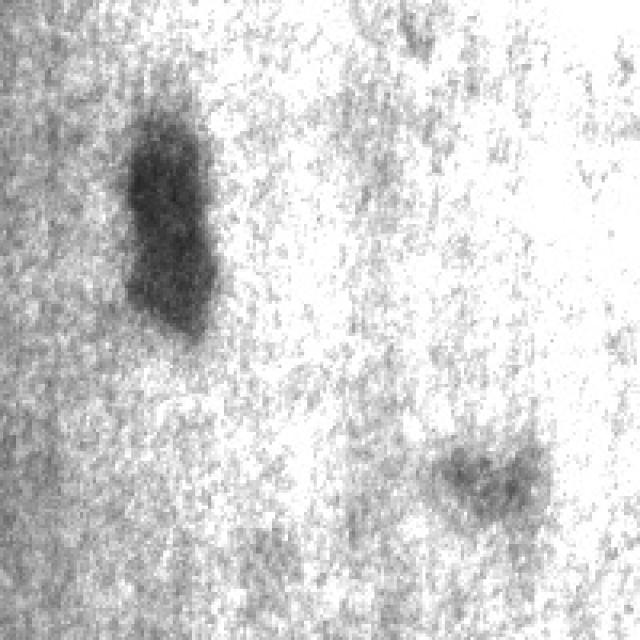patches: (119, 106, 218, 346)
